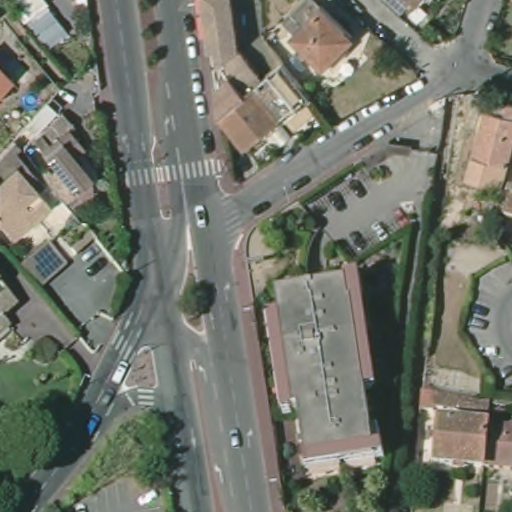pool: (19, 89, 42, 110)
